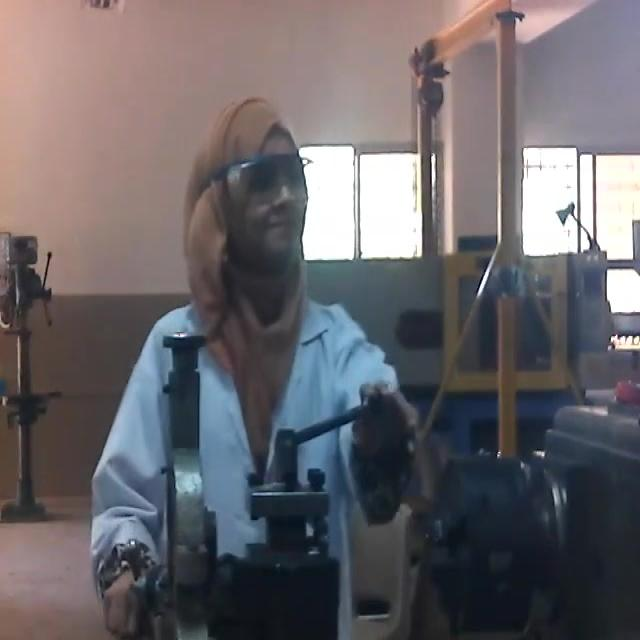googles: (226, 148, 314, 212)
labcoat: (83, 264, 425, 640)
